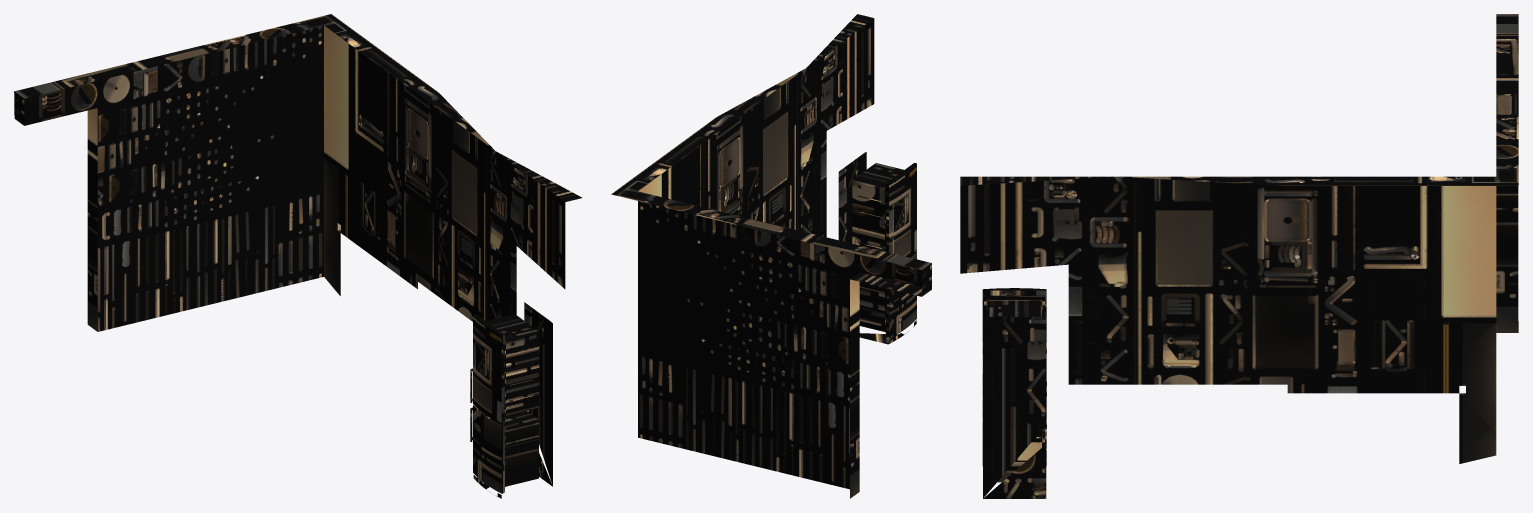
File: simple_house_-_kitchen_2.obj
3 renders of one model, left to right at view 1: azimuth 30°, elevation 25°; view 2: azimuth 150°, elevation 25°; view 3: azimuth 270°, elevation 25°, orthographic. The views are drawn at different scales.
Bounding box in the file's own units: 3.64 × 3.2 × 5.
